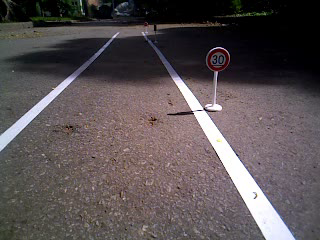limit 30: (205, 46, 231, 72)
